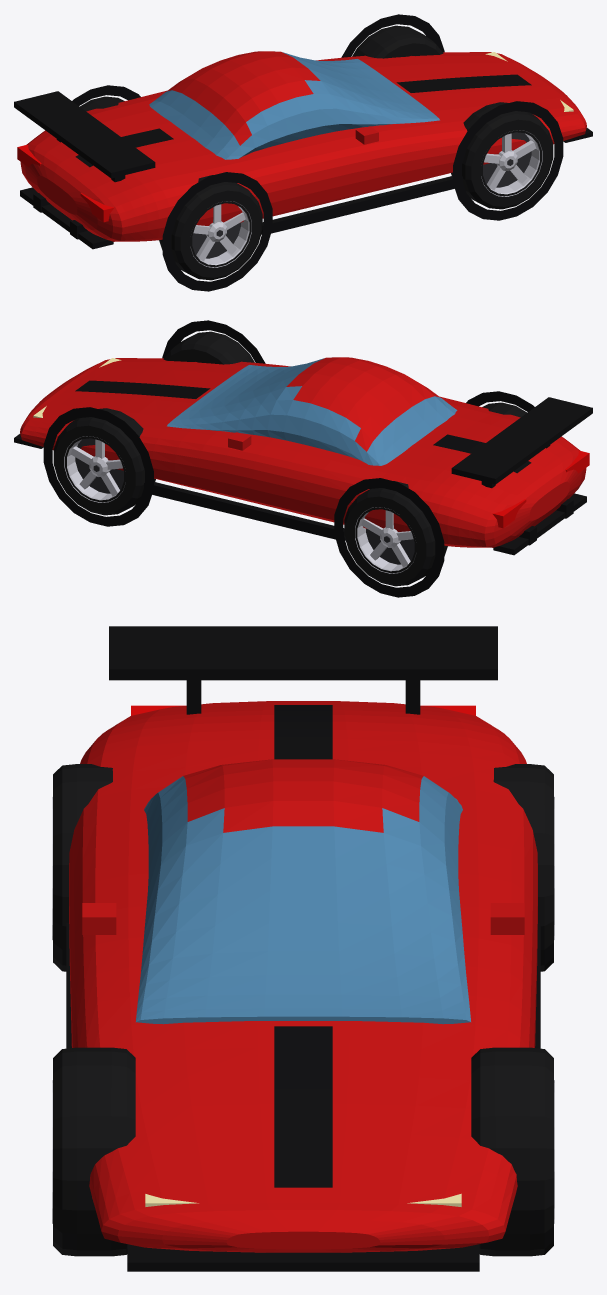
The model's file is sports_car.obj.
3 views of the same model, one above another, from view 1: azimuth 30°, elevation 25°; view 2: azimuth 150°, elevation 25°; view 3: azimuth 270°, elevation 25° (orthographic). The views are drawn at different scales.
Visible parts, largest first — view 1: Body, Cabin, SpoilerWing, Tyre_FL, Tyre_RL, Arch_RL, Arch_FL, Skirt_-1, Stripe, Tyre_FR, Arch_FR, Diffuser (+7 smaller); view 2: Body, Cabin, SpoilerWing, Tyre_FR, Tyre_RR, Arch_FR, Arch_RR, Skirt_1, Stripe, Tyre_FL, Arch_FL, Diffuser (+7 smaller); view 3: Body, Cabin, SpoilerWing, Tyre_FR, Tyre_FL, Stripe, Splitter, Tyre_RL, Tyre_RR, Mirror_-1, Mirror_1.
Part boxes in pixels (box(x1,y1,x2,y2)): Body: box(20, 52, 586, 241); Cabin: box(149, 51, 439, 159); SpoilerWing: box(14, 91, 155, 178); Tyre_FL: box(451, 102, 553, 209); Tyre_RL: box(159, 175, 262, 280); Arch_RL: box(162, 172, 272, 291); Arch_FL: box(453, 101, 563, 220); Skirt_-1: box(261, 176, 462, 235); Stripe: box(75, 74, 531, 167); Tyre_FR: box(352, 25, 443, 58); Arch_FR: box(341, 14, 444, 57); Diffuser: box(20, 187, 113, 249); Body: box(20, 358, 586, 547); Cabin: box(167, 357, 457, 465); SpoilerWing: box(451, 397, 592, 484); Tyre_FR: box(53, 408, 155, 515); Tyre_RR: box(344, 481, 447, 586); Arch_FR: box(43, 407, 153, 526); Arch_RR: box(334, 478, 444, 597); Skirt_1: box(144, 482, 345, 540); Stripe: box(75, 380, 531, 473); Tyre_FL: box(163, 331, 254, 364); Arch_FL: box(162, 320, 265, 363); Diffuser: box(493, 493, 586, 555); Body: box(69, 701, 537, 1252); Cabin: box(136, 759, 470, 1024); SpoilerWing: box(109, 626, 497, 680); Tyre_FR: box(471, 1047, 553, 1256); Tyre_FL: box(53, 1047, 135, 1256); Stripe: box(274, 705, 332, 1187); Splitter: box(127, 1244, 479, 1271); Tyre_RL: box(53, 764, 112, 971); Tyre_RR: box(493, 764, 553, 971); Mirror_-1: box(82, 903, 116, 934); Mirror_1: box(490, 903, 524, 934).
Bounding box in the file's own units: 4.71 × 1.4 × 2.07.
